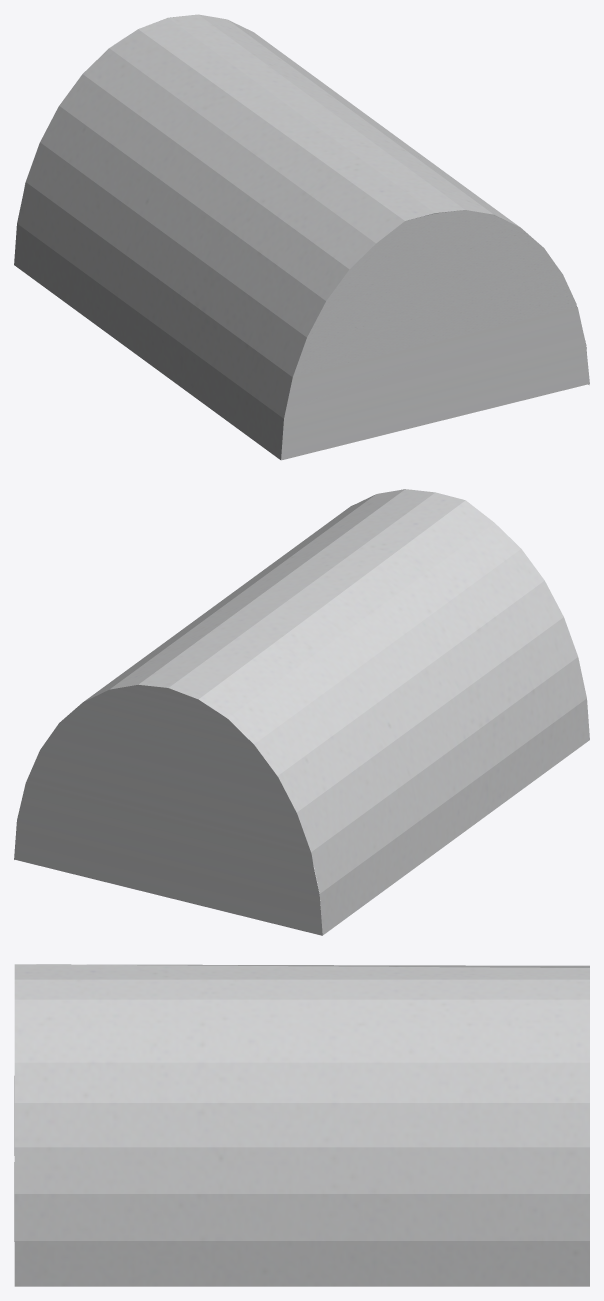
Rendered from szandi_ajto.obj.
3 views of the same model, one above another, from view 1: azimuth 30°, elevation 25°; view 2: azimuth 150°, elevation 25°; view 3: azimuth 270°, elevation 25° (orthographic). The views are drawn at different scales.
Parts seen in each view (by area): view 1: Cylinder; view 2: Cylinder; view 3: Cylinder.
Boxes of the visible parts, bbox=[...] form: Cylinder: bbox=[14, 14, 589, 460]; Cylinder: bbox=[14, 489, 589, 935]; Cylinder: bbox=[14, 964, 589, 1286].
Size of the model in its own units: 2 by 1.3 by 3.
